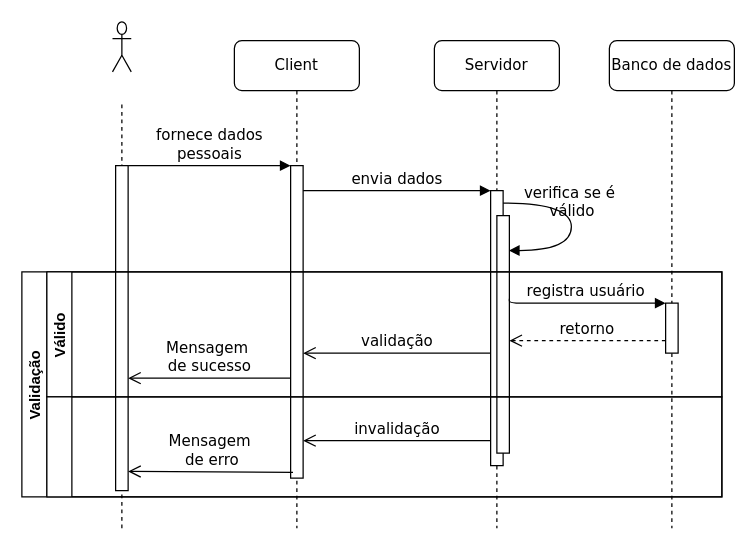
Some shapes in this 756 by 551 pixel diagram are drawn without their labels. Each missing label, with the centre of its shape:
"Actor" goes at (121,46).
"Inválido" goes at (384,446).
